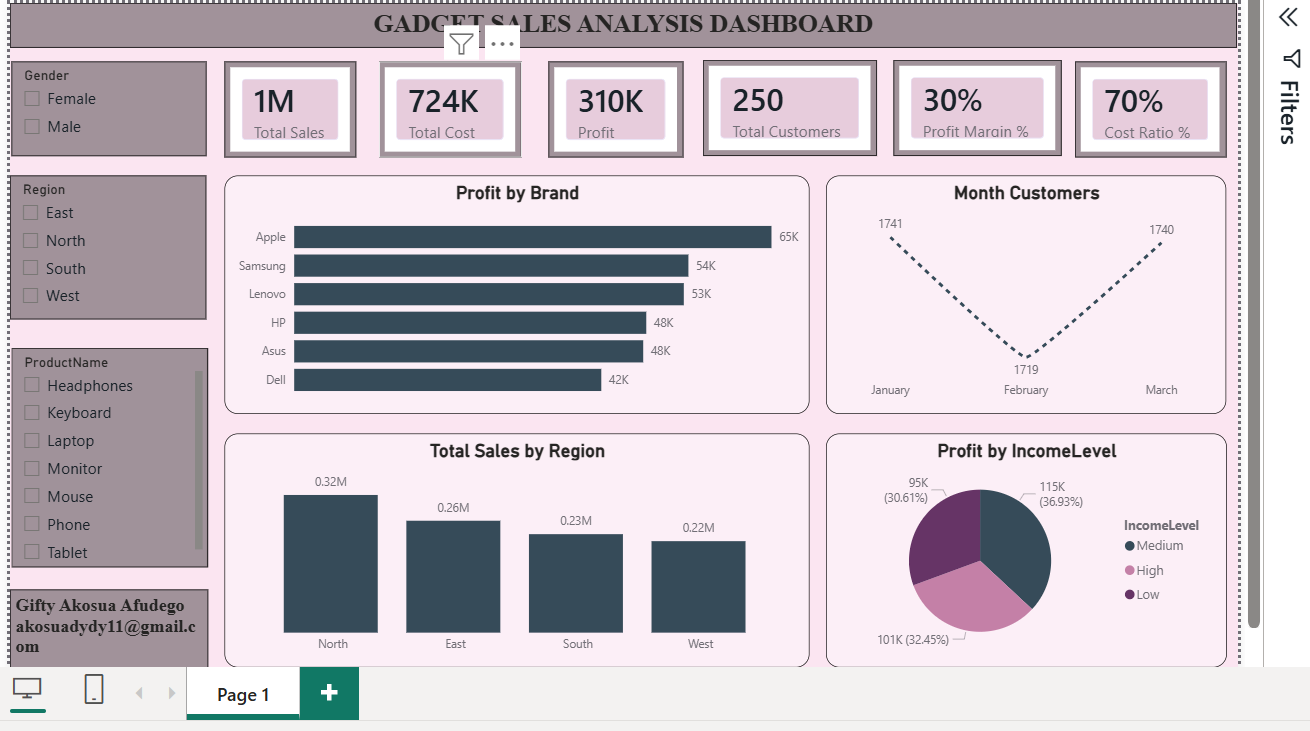

What the dashboard file says about the page in this screenshot:
{"tool":"powerbi","page":{"name":"Page 1","canvas":[1280,720],"ordinal":0},"visuals":[{"type":"card","fields":{"Values":["Sales.Total Sales"]},"box":[431.7,85.7,162.9,82.3],"z":0},{"type":"card","fields":{"Values":["Sales.Total Cost"]},"box":[613.1,85.7,168,82.3],"z":1000},{"type":"card","fields":{"Values":["Sales.Profit"]},"box":[801.3,85.7,161.3,77.3],"z":2000},{"type":"card","fields":{"Values":["Sales.Total Customers"]},"box":[981,85.7,164.6,82.3],"z":3000},{"type":"textbox","box":[120.9,85.7,287.2,82.3],"z":4000},{"type":"clusteredBarChart","fields":{"Category":["Products.Brand"],"Y":["Sales.Profit"]},"box":[332.6,206.6,369.6,201.6],"z":5000},{"type":"pieChart","title":"Total Purchase by Color","fields":{"Category":["Products.Color"],"Y":["Sum(Sales.Quantity)"]},"box":[480.4,455.2,263.7,174.7],"z":6000},{"type":"hundredPercentStackedColumnChart","title":"   Revenue by Year","fields":{"Category":["Sales.SaleDate.Variation.Date Hierarchy.Year","Sales.SaleDate.Variation.Date Hierarchy.Quarter","Sales.SaleDate.Variation.Date Hierarchy.Month","Sales.SaleDate.Variation.Date Hierarchy.Day"],"Y":["Sales.Total Sales"]},"box":[139.4,455.2,292.3,174.7],"z":7000},{"type":"lineChart","title":"    Monthly Customers","fields":{"Category":["Sales.SaleDate.Variation.Date Hierarchy.Month"],"Y":["CountNonNull(Sales.CustomerID)"]},"box":[744.1,218.4,376.3,189.8],"z":8000},{"type":"funnel","title":"Total Profit by Income Level","fields":{"Category":["Customers.IncomeLevel"],"Y":["Sales.Profit"]},"box":[804.6,455.2,315.8,174.7],"z":9000},{"type":"slicer","fields":{"Values":["Customers.Gender"]},"box":[139.4,336,146.1,80.6],"z":10000},{"type":"slicer","fields":{"Values":["Customers.Region"]},"box":[139.4,194.9,146.1,141.1],"z":11000}]}

Visuals, with their boxes on the page's 1280x720 design canvas (x1, y1, x2, y2). These are canvas units, not pixel positions in the 1310x731 screenshot, which may show the page scaled, cropped or inside an application window:
card - Sales.Total Sales: select_region(432, 86, 595, 168)
card - Sales.Total Cost: select_region(613, 86, 781, 168)
card - Sales.Profit: select_region(801, 86, 963, 163)
card - Sales.Total Customers: select_region(981, 86, 1146, 168)
textbox: select_region(121, 86, 408, 168)
clusteredBarChart - Products.Brand x Sales.Profit: select_region(333, 207, 702, 408)
"Total Purchase by Color" pieChart: select_region(480, 455, 744, 630)
"   Revenue by Year" hundredPercentStackedColumnChart: select_region(139, 455, 432, 630)
"    Monthly Customers" lineChart: select_region(744, 218, 1120, 408)
"Total Profit by Income Level" funnel: select_region(805, 455, 1120, 630)
slicer - Customers.Gender: select_region(139, 336, 286, 417)
slicer - Customers.Region: select_region(139, 195, 286, 336)
